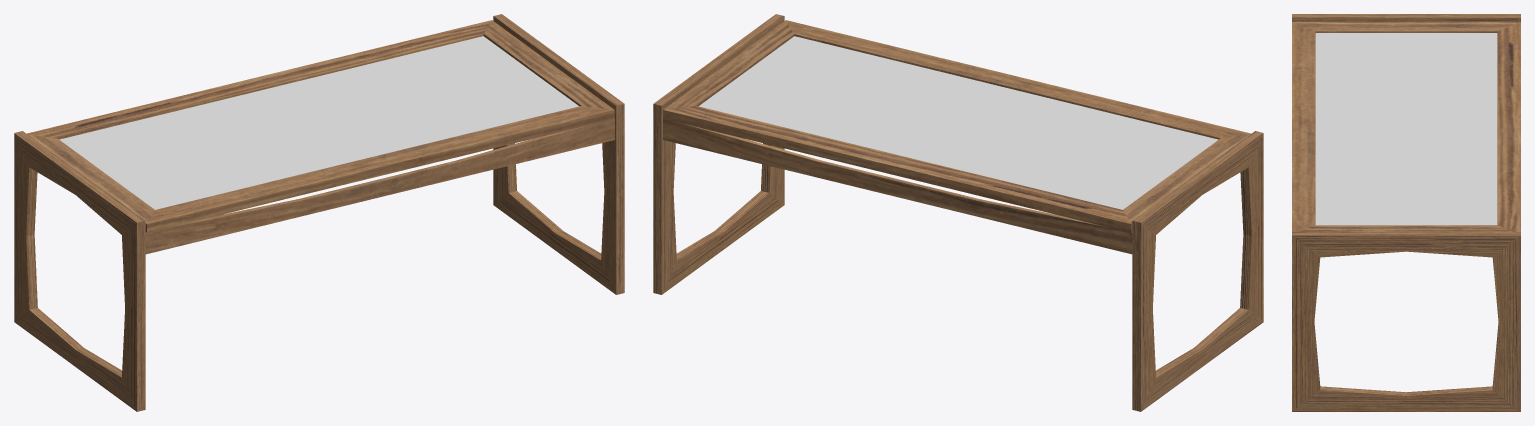
File: Table.fbx
The picture shows the model from 3 angles, left to right: view 1: azimuth 30°, elevation 25°; view 2: azimuth 150°, elevation 25°; view 3: azimuth 270°, elevation 25°; orthographic projection. The views are drawn at different scales.
Visible parts, largest first — view 1: Glass, TableTop, LegLeft, TableTopSides, LegRight; view 2: Glass, TableTop, LegLeft, TableTopSides, LegRight; view 3: Glass, LegRight, TableTop, LegLeft.
Part boxes in pixels (<box>): Glass: <box>59,36,578,209</box>; TableTop: <box>27,20,614,232</box>; LegLeft: <box>14,131,145,411</box>; TableTopSides: <box>145,118,614,254</box>; LegRight: <box>493,14,624,294</box>; Glass: <box>699,36,1218,209</box>; TableTop: <box>663,20,1250,232</box>; LegLeft: <box>1132,131,1263,411</box>; TableTopSides: <box>663,118,1132,254</box>; LegRight: <box>653,14,784,294</box>; Glass: <box>1315,33,1497,225</box>; LegRight: <box>1292,232,1520,411</box>; TableTop: <box>1292,22,1520,231</box>; LegLeft: <box>1292,14,1520,21</box>.
Size of the model in its own units: 115 by 42.5 by 50.
Materials: 3 (2 with a texture image).
